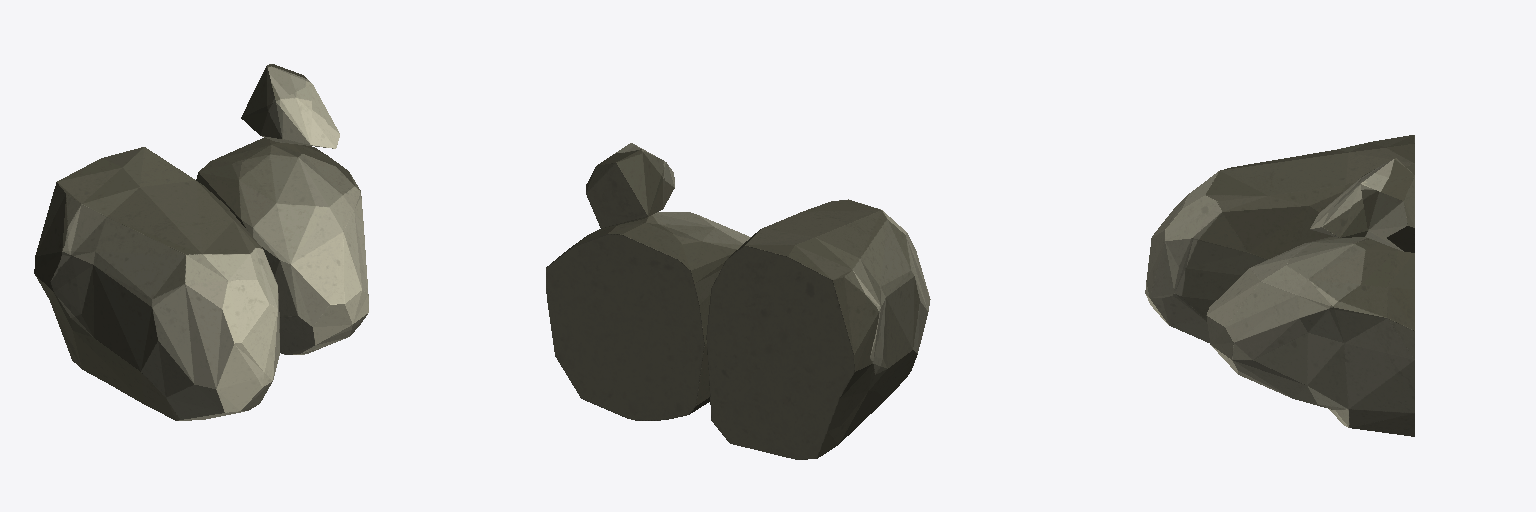
The picture shows the model from 3 angles: view 1: azimuth 30°, elevation 25°; view 2: azimuth 150°, elevation 25°; view 3: azimuth 270°, elevation 25°; orthographic projection.
Visible parts, largest first — view 1: Object.2, Object.1, Object.5; view 2: Object.2, Object.1, Object.5; view 3: Object.1, Object.2, Object.5.
Boxes of the visible parts, x1,y1,x2,y2 form: Object.2: [34, 147, 279, 420]; Object.1: [196, 138, 368, 354]; Object.5: [241, 64, 339, 148]; Object.2: [706, 199, 930, 459]; Object.1: [546, 212, 750, 420]; Object.5: [586, 143, 674, 228]; Object.1: [1206, 236, 1414, 436]; Object.2: [1145, 135, 1414, 342]; Object.5: [1310, 158, 1414, 252].
Bounding box in the file's own units: 40 × 32.71 × 30.25.
1 materials, 1 textured.